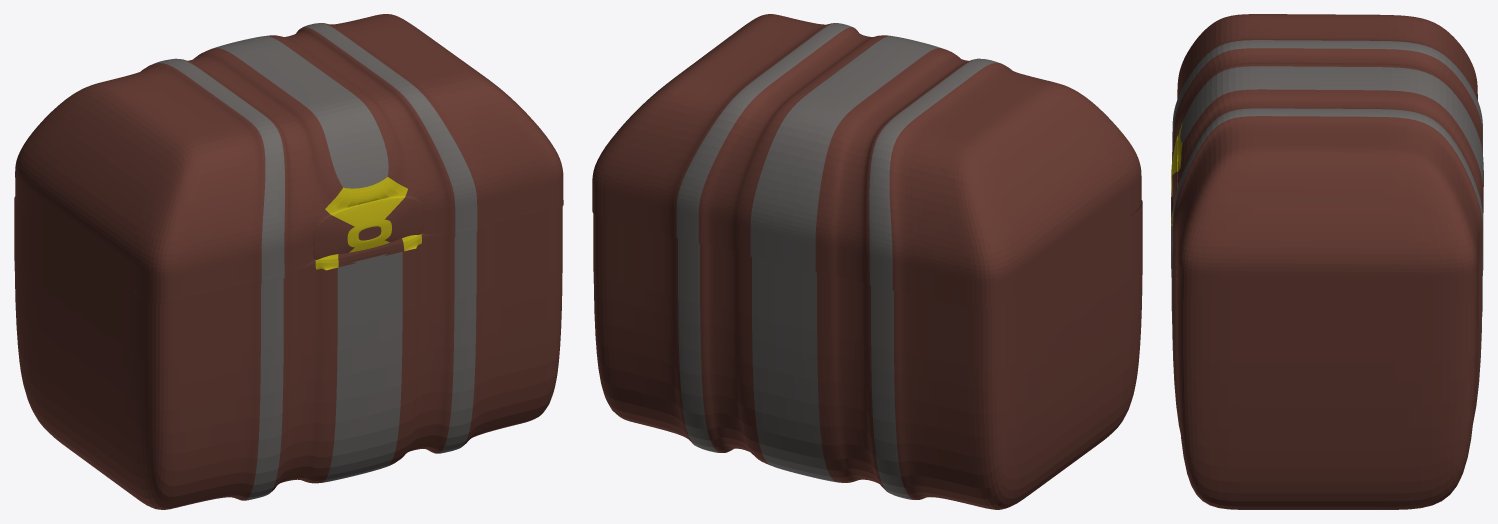
File: TreasureChest.fbx
The picture shows the model from 3 angles, left to right: view 1: azimuth 30°, elevation 25°; view 2: azimuth 150°, elevation 25°; view 3: azimuth 270°, elevation 25°; orthographic projection. The views are drawn at different scales.
Visible parts, largest first — view 1: cuepro, tapa; view 2: cuepro, tapa; view 3: tapa, cuepro.
Boxes of the visible parts, bbox=[...] form: cuepro: bbox=[14, 196, 562, 509]; tapa: bbox=[15, 14, 563, 304]; cuepro: bbox=[593, 200, 1142, 509]; tapa: bbox=[592, 14, 1141, 310]; tapa: bbox=[1171, 14, 1483, 303]; cuepro: bbox=[1171, 152, 1483, 509].
Size of the model in its own units: 314 by 260 by 208.
3 materials, 2 textured.
